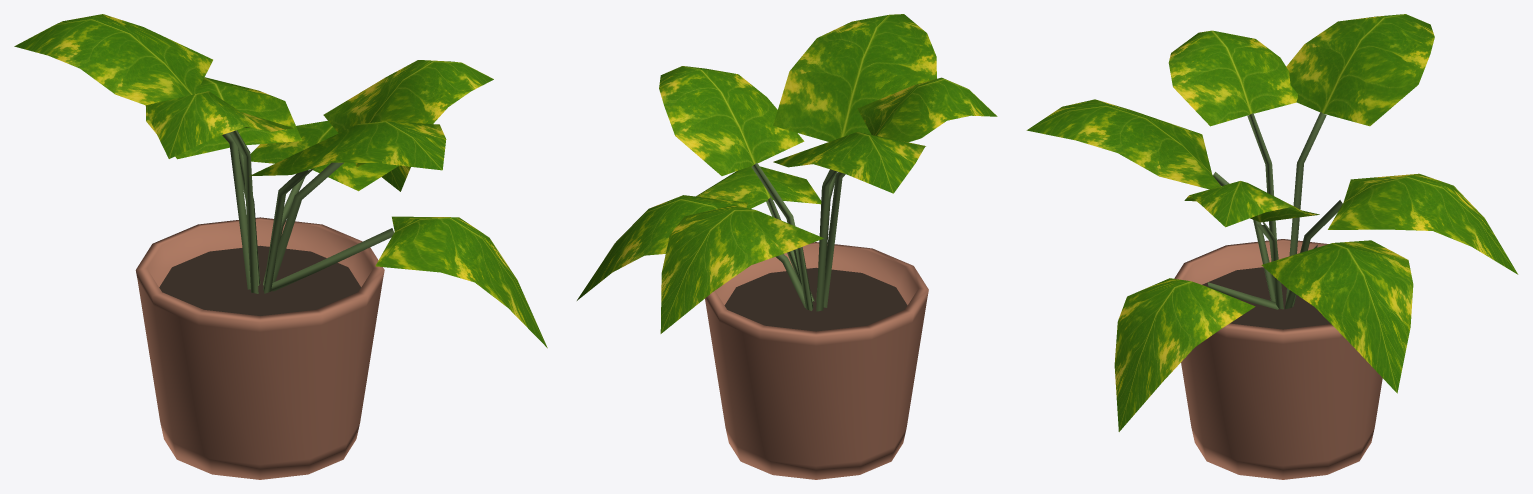
The model's file is tabletop_pothos.glb.
3 views of the same model, side by side, from view 1: azimuth 30°, elevation 25°; view 2: azimuth 150°, elevation 25°; view 3: azimuth 270°, elevation 25° (orthographic). The views are drawn at different scales.
Visible parts, largest first — view 1: tabletop_pothos; view 2: tabletop_pothos; view 3: tabletop_pothos.
Part boxes in pixels (bbox=[...]): tabletop_pothos: bbox=[14, 14, 547, 479]; tabletop_pothos: bbox=[577, 14, 997, 479]; tabletop_pothos: bbox=[1026, 14, 1518, 479].
Bounding box in the file's own units: 0.2256 × 0.2383 × 0.2842.
2 materials, 1 textured.
